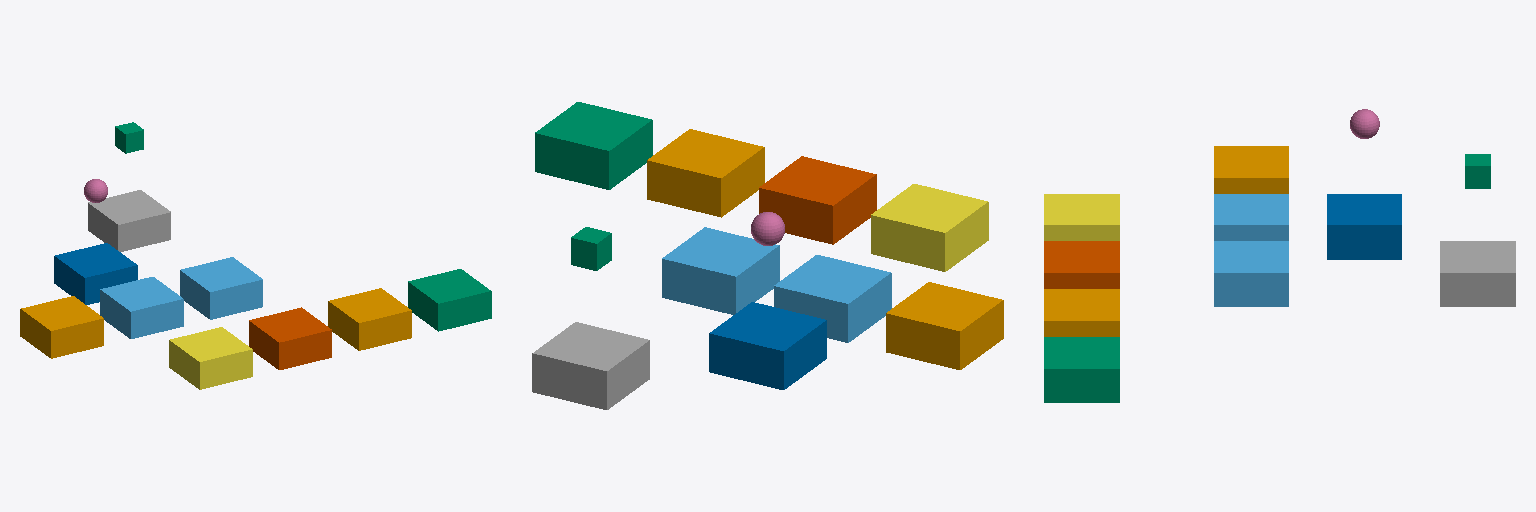
The robot description file, URDF, robot "card_screen_with_side_ribs__center_rib__and_bar_connection_syste":
<?xml version="1.0" ?>
<robot name="card_screen_with_side_ribs__center_rib__and_bar_connection_system">
  <link name="card_screen">
    <visual>
      <geometry>
        <box size="0.04 0.04 0.02"/>
      </geometry>
    </visual>
  </link>
  <link name="center_rib">
    <visual>
      <geometry>
        <box size="0.04 0.04 0.02"/>
      </geometry>
    </visual>
  </link>
  <link name="center_rib_openings">
    <visual>
      <geometry>
        <box size="0.04 0.04 0.02"/>
      </geometry>
    </visual>
  </link>
  <link name="end_bars">
    <visual>
      <geometry>
        <box size="0.04 0.04 0.02"/>
      </geometry>
    </visual>
  </link>
  <link name="first_group_bars">
    <visual>
      <geometry>
        <box size="0.04 0.04 0.02"/>
      </geometry>
    </visual>
  </link>
  <link name="grid_bars">
    <visual>
      <geometry>
        <box size="0.04 0.04 0.02"/>
      </geometry>
    </visual>
  </link>
  <link name="pins">
    <visual>
      <geometry>
        <sphere radius="0.008"/>
      </geometry>
    </visual>
  </link>
  <link name="second_group_bars">
    <visual>
      <geometry>
        <box size="0.04 0.04 0.02"/>
      </geometry>
    </visual>
  </link>
  <link name="side_rib_openings">
    <visual>
      <geometry>
        <box size="0.04 0.04 0.02"/>
      </geometry>
    </visual>
  </link>
  <link name="side_ribs">
    <visual>
      <geometry>
        <box size="0.04 0.04 0.02"/>
      </geometry>
    </visual>
  </link>
  <link name="sockets">
    <visual>
      <geometry>
        <box size="0.014 0.014 0.014"/>
      </geometry>
    </visual>
  </link>
  <joint name="_attach_card_screen_to_center_rib" type="fixed">
    <parent link="card_screen"/>
    <child link="center_rib"/>
    <origin xyz="0.1200 0.0000 0.0000" rpy="0 0 0"/>
  </joint>
  <joint name="_attach_card_screen_to_center_rib_openings" type="fixed">
    <parent link="card_screen"/>
    <child link="center_rib_openings"/>
    <origin xyz="0.2400 -0.0900 0.0000" rpy="0 0 0"/>
  </joint>
  <joint name="_attach_card_screen_to_end_bars" type="fixed">
    <parent link="card_screen"/>
    <child link="end_bars"/>
    <origin xyz="0.0600 -0.0900 0.0000" rpy="0 0 0"/>
  </joint>
  <joint name="_attach_card_screen_to_first_group_bars" type="fixed">
    <parent link="card_screen"/>
    <child link="first_group_bars"/>
    <origin xyz="0.0600 0.0600 0.0000" rpy="0 0 0"/>
  </joint>
  <joint name="_attach_card_screen_to_grid_bars" type="fixed">
    <parent link="card_screen"/>
    <child link="grid_bars"/>
    <origin xyz="0.1200 -0.0900 0.0000" rpy="0 0 0"/>
  </joint>
  <joint name="_attach_card_screen_to_pins" type="fixed">
    <parent link="card_screen"/>
    <child link="pins"/>
    <origin xyz="0.0600 0.0600 0.0600" rpy="0 0 0"/>
  </joint>
  <joint name="_attach_card_screen_to_second_group_bars" type="fixed">
    <parent link="card_screen"/>
    <child link="second_group_bars"/>
    <origin xyz="0.1200 0.1200 0.0000" rpy="0 0 0"/>
  </joint>
  <joint name="_attach_card_screen_to_side_rib_openings" type="fixed">
    <parent link="card_screen"/>
    <child link="side_rib_openings"/>
    <origin xyz="0.1800 -0.0900 0.0000" rpy="0 0 0"/>
  </joint>
  <joint name="_attach_card_screen_to_side_ribs" type="fixed">
    <parent link="card_screen"/>
    <child link="side_ribs"/>
    <origin xyz="0.0600 0.0000 0.0000" rpy="0 0 0"/>
  </joint>
  <joint name="_attach_card_screen_to_sockets" type="fixed">
    <parent link="card_screen"/>
    <child link="sockets"/>
    <origin xyz="0.1200 0.1200 0.0600" rpy="0 0 0"/>
  </joint>
</robot>

--- What the picture shows (computed from the rendered views, not written in the file) ---
The picture shows the robot from 3 angles, left to right: view 1: azimuth 30°, elevation 25°; view 2: azimuth 150°, elevation 25°; view 3: azimuth 270°, elevation 25°; orthographic projection.
Model card_screen_with_side_ribs__center_rib__and_bar_connection_syste with 11 links and 10 joints (10 fixed), rooted at card_screen, posed every joint at zero.
Visible links, largest first — view 1: end_bars, card_screen, side_rib_openings, side_ribs, center_rib_openings, center_rib, grid_bars, second_group_bars, first_group_bars, sockets; view 2: end_bars, first_group_bars, card_screen, second_group_bars, center_rib_openings, side_rib_openings, center_rib, grid_bars, side_ribs, sockets, pins; view 3: center_rib_openings, second_group_bars, center_rib, first_group_bars, grid_bars, side_rib_openings, card_screen, end_bars, side_ribs, sockets, pins.
Link boxes in pixels (bbox=[...]): end_bars: bbox=[169, 327, 252, 389]; card_screen: bbox=[20, 296, 103, 358]; side_rib_openings: bbox=[328, 288, 411, 350]; side_ribs: bbox=[100, 277, 183, 338]; center_rib_openings: bbox=[408, 269, 491, 331]; center_rib: bbox=[180, 257, 262, 319]; grid_bars: bbox=[249, 307, 331, 369]; second_group_bars: bbox=[88, 190, 170, 251]; first_group_bars: bbox=[54, 243, 137, 304]; sockets: bbox=[115, 122, 143, 153]; end_bars: bbox=[871, 184, 988, 271]; first_group_bars: bbox=[709, 302, 826, 389]; card_screen: bbox=[886, 282, 1003, 369]; second_group_bars: bbox=[532, 322, 649, 409]; center_rib_openings: bbox=[535, 102, 652, 189]; side_rib_openings: bbox=[647, 129, 764, 217]; center_rib: bbox=[662, 227, 779, 314]; grid_bars: bbox=[759, 156, 876, 244]; side_ribs: bbox=[774, 255, 891, 342]; sockets: bbox=[571, 227, 611, 270]; pins: bbox=[751, 212, 784, 245]; center_rib_openings: bbox=[1044, 337, 1119, 402]; second_group_bars: bbox=[1440, 241, 1515, 306]; center_rib: bbox=[1214, 241, 1288, 306]; first_group_bars: bbox=[1327, 194, 1401, 259]; grid_bars: bbox=[1044, 241, 1119, 288]; side_rib_openings: bbox=[1044, 289, 1119, 336]; card_screen: bbox=[1214, 146, 1288, 193]; end_bars: bbox=[1044, 194, 1119, 240]; side_ribs: bbox=[1214, 194, 1288, 240]; sockets: bbox=[1465, 154, 1490, 188]; pins: bbox=[1350, 109, 1379, 138].
Size in the robot's own frame: 0.28 by 0.25 by 0.078 metres.
Geometry: primitives only (box / cylinder / sphere), no mesh files.
